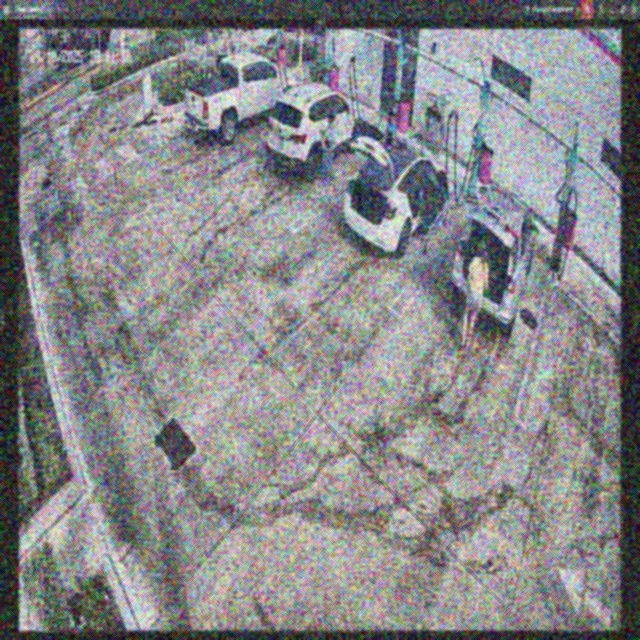Car: (342, 128, 449, 258), (451, 181, 535, 334), (274, 88, 364, 183)
